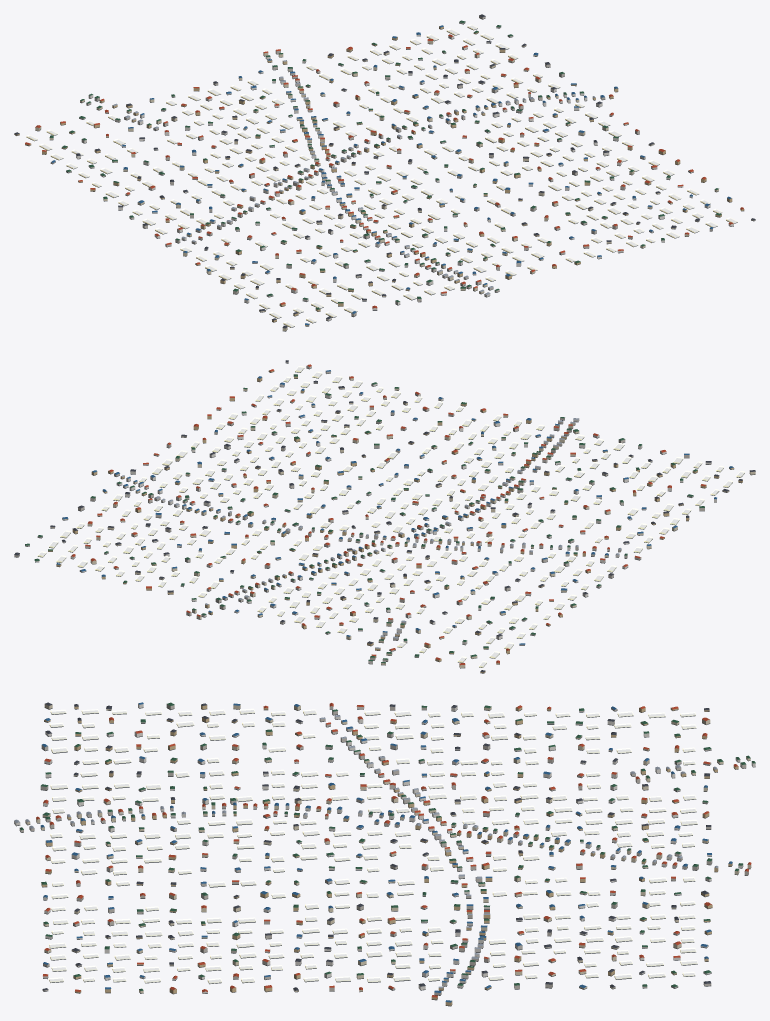
Rendered from buildings_T_W06_N02.glb.
3 renders of one model, top to bottom at view 1: azimuth 30°, elevation 25°; view 2: azimuth 150°, elevation 25°; view 3: azimuth 270°, elevation 25°, orthographic. The views are drawn at different scales.
Visible parts, largest first — view 1: T_W06_N02_roofs_agri_greenhouse_arch, T_W06_N02_slope_seating_foundations, T_W06_N02_walls_wall_french_ochre_villa, T_W06_N02_walls_wall_modern_warm_white, T_W06_N02_walls_wall_pastel_sand_gray, T_W06_N02_walls_wall_dalat_cream_stucco, T_W06_N02_roofs_roof_pine_green_hip, T_W06_N02_roofs_roof_terracotta_gable, T_W06_N02_roofs_roof_highland_blue_gable, T_W06_N02_roofs_roof_slate_French_villa_hip, T_W06_N02_roofs_roof_zinc_silver_gable; view 2: T_W06_N02_roofs_agri_greenhouse_arch, T_W06_N02_slope_seating_foundations, T_W06_N02_walls_wall_french_ochre_villa, T_W06_N02_walls_wall_modern_warm_white, T_W06_N02_walls_wall_pastel_sand_gray, T_W06_N02_walls_wall_dalat_cream_stucco, T_W06_N02_roofs_roof_terracotta_gable, T_W06_N02_roofs_roof_pine_green_hip, T_W06_N02_roofs_roof_highland_blue_gable, T_W06_N02_roofs_roof_slate_French_villa_hip, T_W06_N02_roofs_roof_zinc_silver_gable; view 3: T_W06_N02_roofs_agri_greenhouse_arch, T_W06_N02_slope_seating_foundations, T_W06_N02_walls_wall_french_ochre_villa, T_W06_N02_walls_wall_modern_warm_white, T_W06_N02_walls_wall_pastel_sand_gray, T_W06_N02_walls_wall_dalat_cream_stucco, T_W06_N02_roofs_roof_pine_green_hip, T_W06_N02_roofs_roof_terracotta_gable, T_W06_N02_roofs_roof_highland_blue_gable, T_W06_N02_roofs_roof_slate_French_villa_hip, T_W06_N02_roofs_roof_zinc_silver_gable.
Part boxes in pixels (box(x1,y1,x2,y2)): T_W06_N02_roofs_agri_greenhouse_arch: box(26, 24, 737, 327); T_W06_N02_slope_seating_foundations: box(14, 18, 755, 331); T_W06_N02_walls_wall_french_ochre_villa: box(14, 26, 744, 326); T_W06_N02_walls_wall_modern_warm_white: box(76, 22, 733, 320); T_W06_N02_walls_wall_pastel_sand_gray: box(50, 16, 755, 316); T_W06_N02_walls_wall_dalat_cream_stucco: box(35, 40, 718, 330); T_W06_N02_roofs_roof_pine_green_hip: box(49, 20, 721, 309); T_W06_N02_roofs_roof_terracotta_gable: box(25, 34, 744, 308); T_W06_N02_roofs_roof_highland_blue_gable: box(51, 25, 731, 325); T_W06_N02_roofs_roof_slate_French_villa_hip: box(14, 14, 755, 328); T_W06_N02_roofs_roof_zinc_silver_gable: box(113, 60, 595, 294); T_W06_N02_roofs_agri_greenhouse_arch: box(37, 366, 744, 667); T_W06_N02_slope_seating_foundations: box(14, 363, 755, 673); T_W06_N02_walls_wall_french_ochre_villa: box(48, 370, 742, 673); T_W06_N02_walls_wall_modern_warm_white: box(35, 366, 716, 663); T_W06_N02_walls_wall_pastel_sand_gray: box(14, 362, 704, 661); T_W06_N02_walls_wall_dalat_cream_stucco: box(50, 377, 755, 667); T_W06_N02_roofs_roof_terracotta_gable: box(71, 364, 705, 665); T_W06_N02_roofs_roof_pine_green_hip: box(25, 374, 704, 663); T_W06_N02_roofs_roof_highland_blue_gable: box(56, 370, 733, 644); T_W06_N02_roofs_roof_slate_French_villa_hip: box(14, 360, 755, 672); T_W06_N02_roofs_roof_zinc_silver_gable: box(121, 418, 621, 648); T_W06_N02_roofs_agri_greenhouse_arch: box(49, 708, 697, 983); T_W06_N02_slope_seating_foundations: box(14, 707, 755, 1006); T_W06_N02_walls_wall_french_ochre_villa: box(41, 705, 738, 1005); T_W06_N02_walls_wall_modern_warm_white: box(14, 703, 755, 993); T_W06_N02_walls_wall_pastel_sand_gray: box(19, 704, 748, 995); T_W06_N02_walls_wall_dalat_cream_stucco: box(25, 704, 751, 993); T_W06_N02_roofs_roof_pine_green_hip: box(20, 702, 755, 990); T_W06_N02_roofs_roof_terracotta_gable: box(36, 703, 751, 997); T_W06_N02_roofs_roof_highland_blue_gable: box(40, 702, 732, 1002); T_W06_N02_roofs_roof_slate_French_villa_hip: box(42, 702, 711, 990); T_W06_N02_roofs_roof_zinc_silver_gable: box(14, 715, 718, 988).
Size of the model in its own units: 1843 by 30.07 by 1934.
